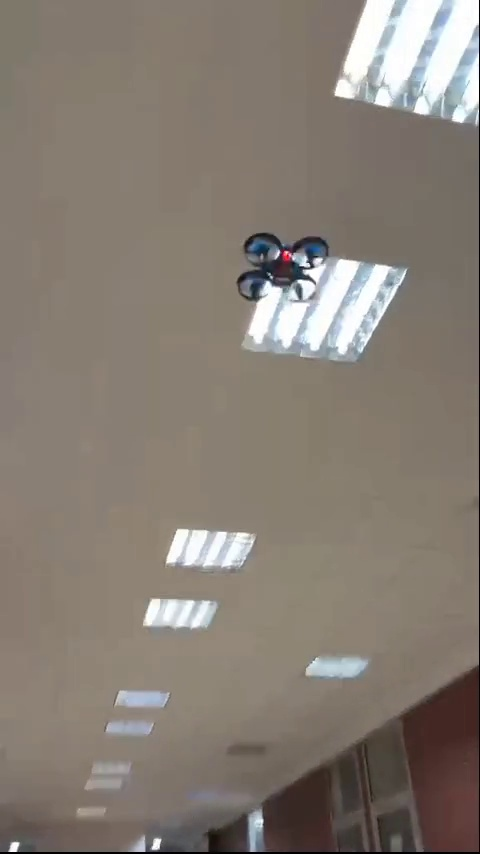drone: (239, 233, 327, 299)
